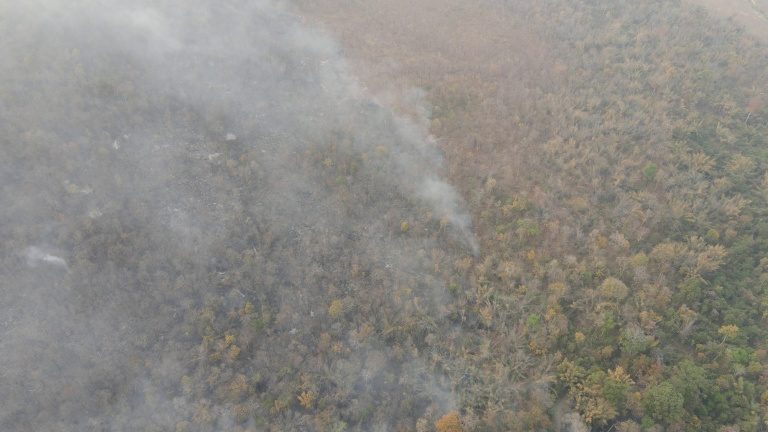smoke: (1, 1, 486, 430)
